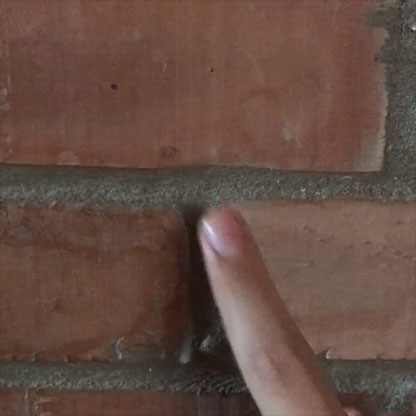fingertip: (179, 189, 262, 277)
